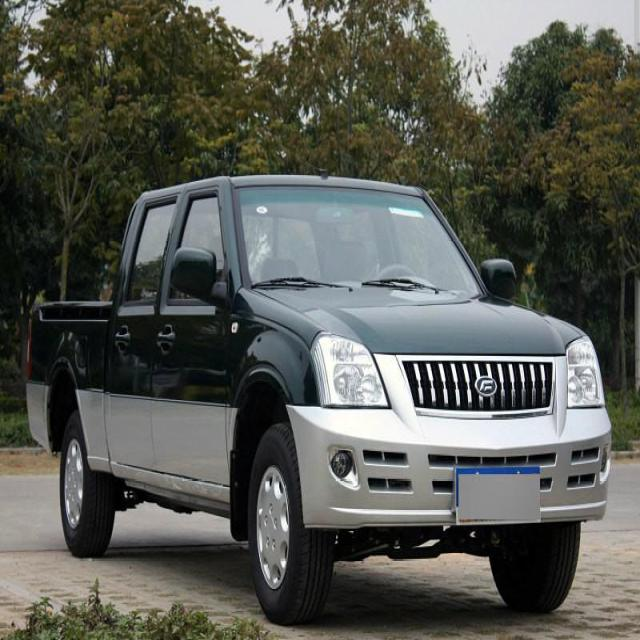door: (106, 190, 186, 465)
front_bumper: (285, 352, 612, 530)
front_glass: (233, 184, 484, 296)
front_left_side_light: (566, 335, 606, 411)
front_left_side_mirror: (479, 258, 518, 302)
front_right_side_door: (148, 178, 233, 492)
front_right_side_light: (310, 330, 390, 410)
front_right_side_mirror: (169, 246, 221, 301)
wheel: (248, 423, 330, 625), (61, 409, 112, 556)
